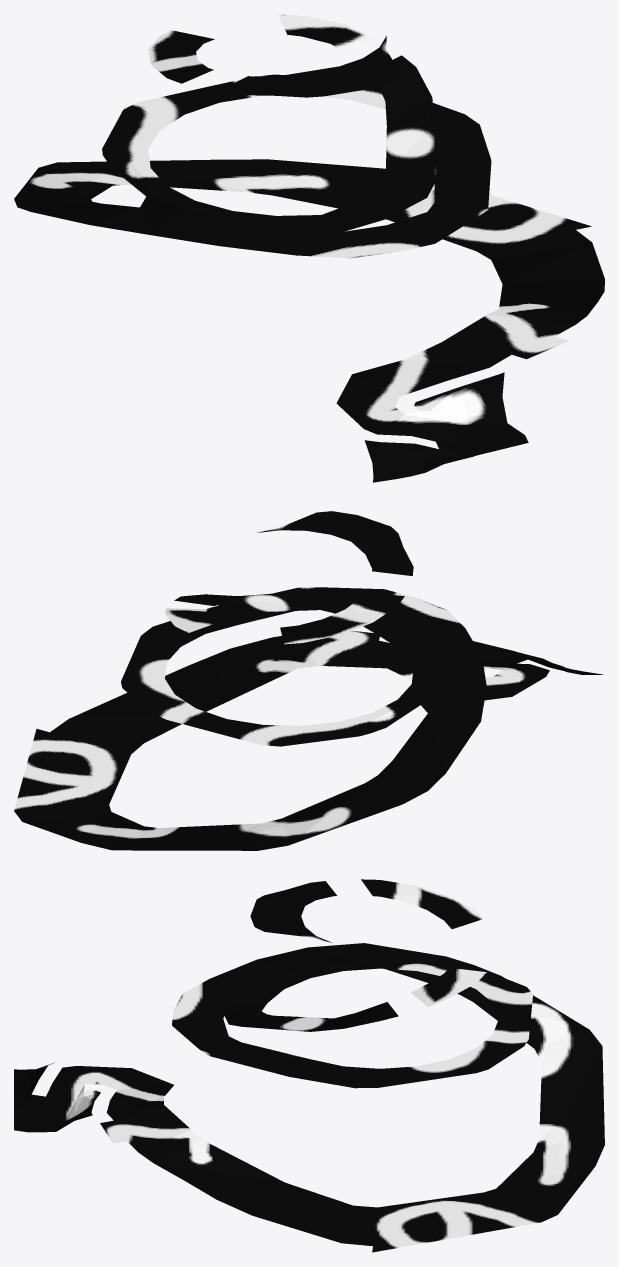
The model's file is pollution04.dae.
3 views of the same model, one above another, from view 1: azimuth 30°, elevation 25°; view 2: azimuth 150°, elevation 25°; view 3: azimuth 270°, elevation 25° (orthographic). The views are drawn at different scales.
Visible parts, largest first — view 1: m0; view 2: m0; view 3: m0.
Boxes of the visible parts, x1,y1,x2,y2 form: m0: (14,14,604,482); m0: (14,511,602,850); m0: (14,879,604,1252).
Bounding box in the file's own units: 6525 × 3201 × 7853.
